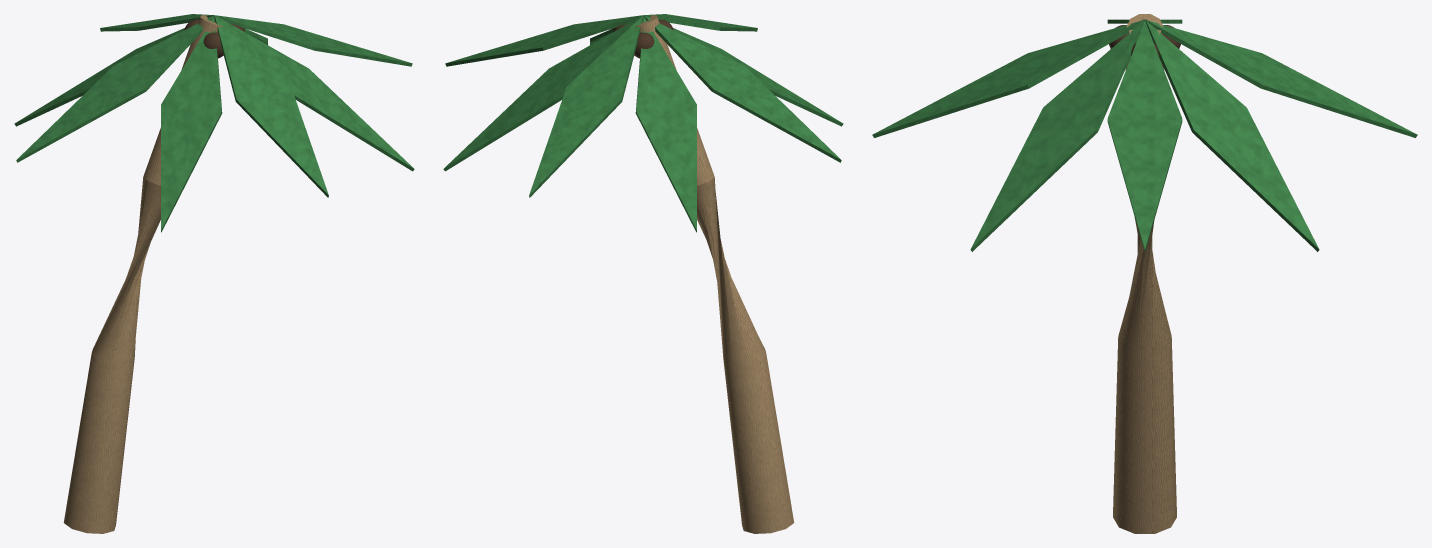
The model's file is env_tree_palm.glb.
3 renders of one model, left to right at view 1: azimuth 30°, elevation 25°; view 2: azimuth 150°, elevation 25°; view 3: azimuth 270°, elevation 25°, orthographic. The views are drawn at different scales.
Parts seen in each view (by area): view 1: env_tree_palm; view 2: env_tree_palm; view 3: env_tree_palm.
Part boxes in pixels (x1,y1,x2,y2): env_tree_palm: [14, 14, 414, 533]; env_tree_palm: [443, 14, 843, 533]; env_tree_palm: [872, 14, 1417, 533].
Bounding box in the file's own units: 5.09 × 5.91 × 5.09.
Materials: 3 (2 with a texture image).
